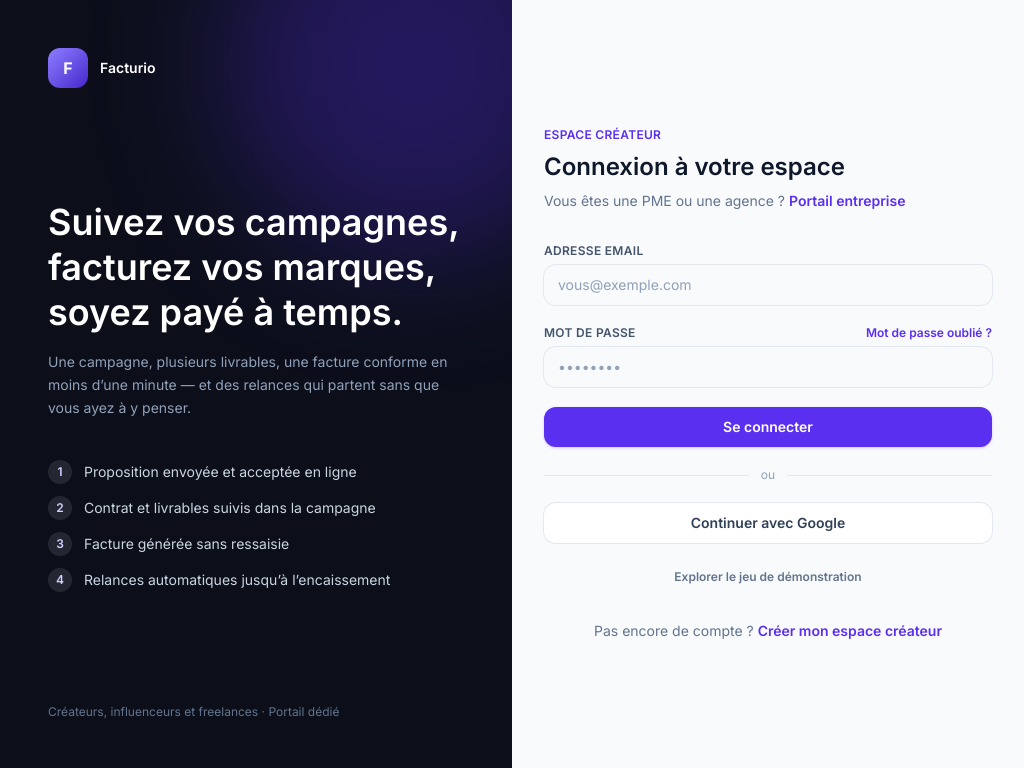
Test: ConnexionComponent › affiche l’erreur renvoyée par le service d’authentification
Type "toky" into the field labelled "Adresse email". click: (768, 285)
box: [544,265,992,305]
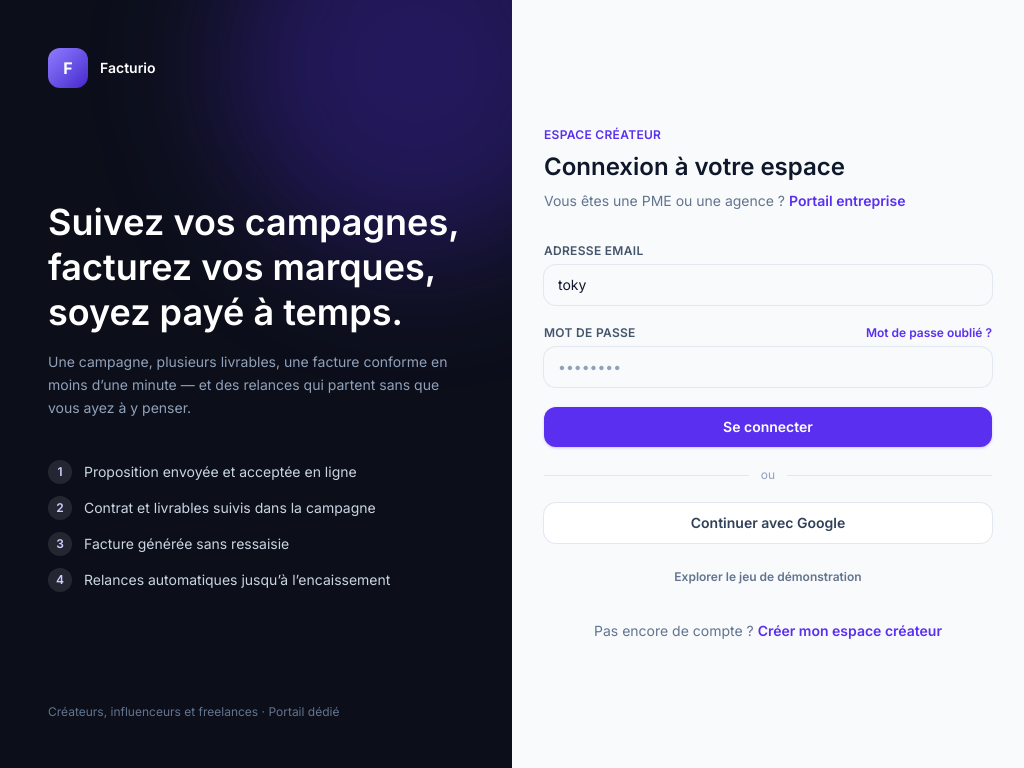
Type "motdepasse" into the password field labelled "Mot de passe". click: (768, 367)
box: [544,347,992,387]
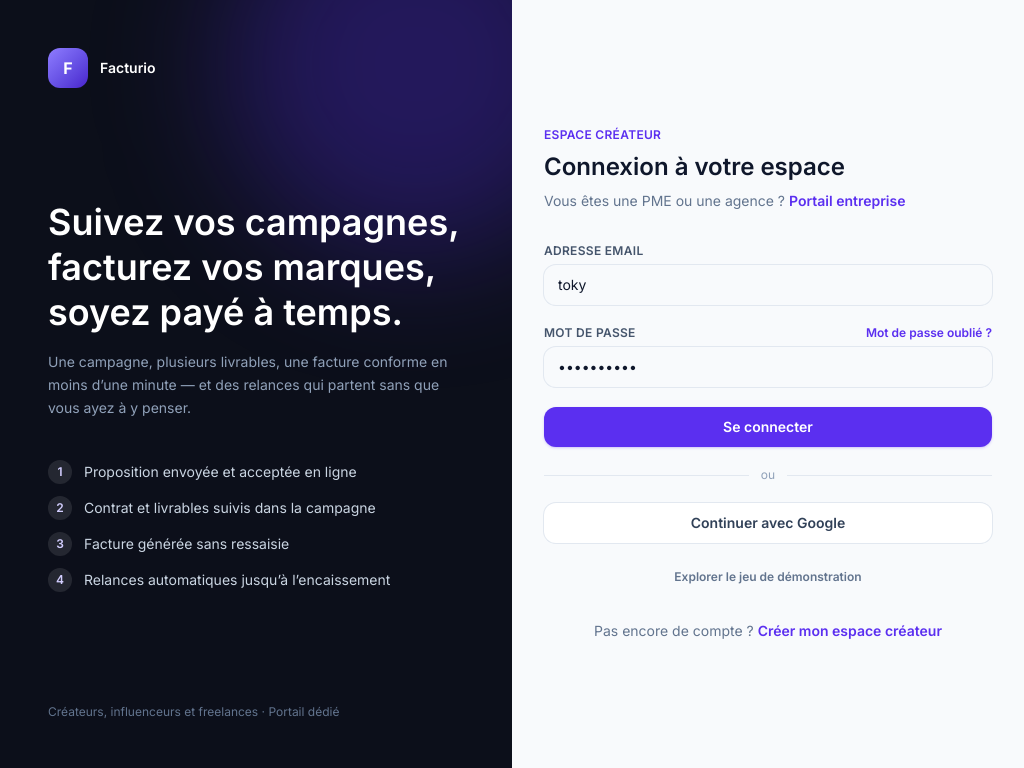
Submit the form, box [544,243,992,589]
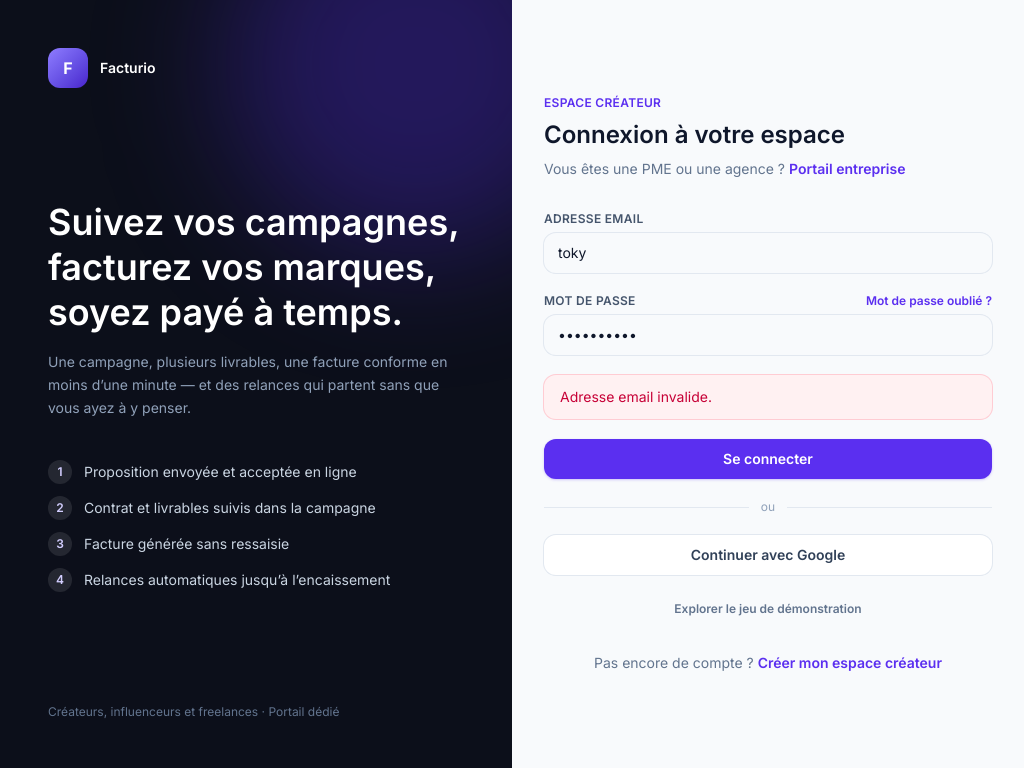
Check: the text "Adresse email invalide." is shown, box [544,375,992,419]
